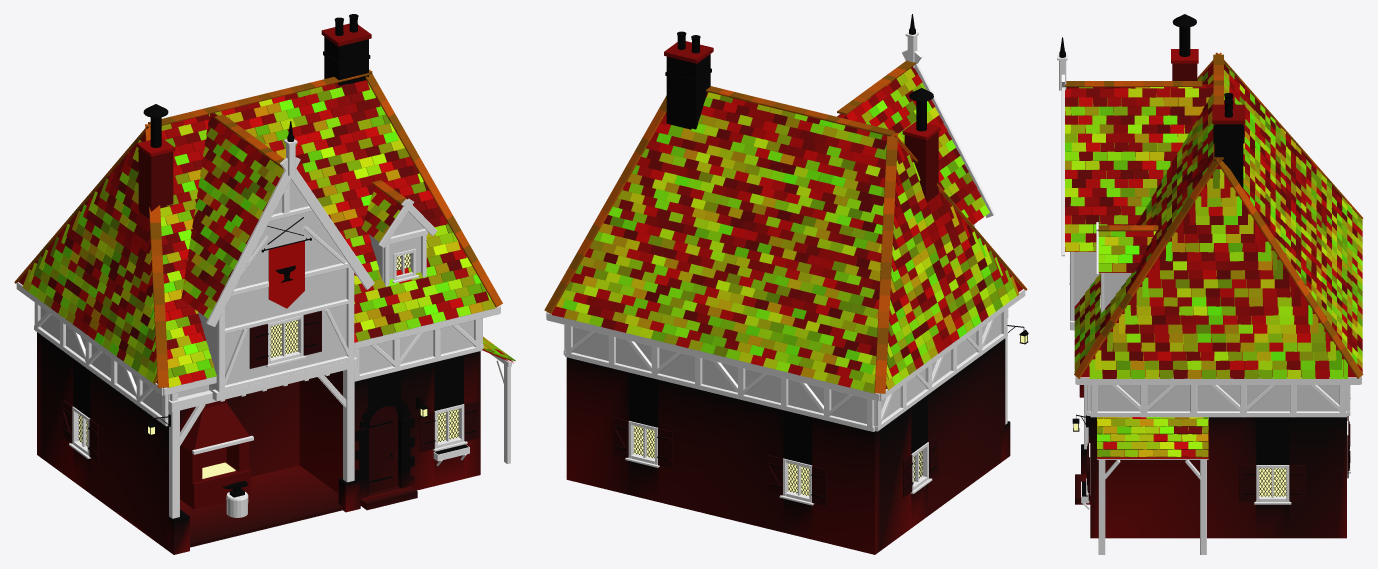
Rendered from SilverbrookBlacksmith.fbx.
The picture shows the model from 3 angles, left to right: view 1: azimuth 30°, elevation 25°; view 2: azimuth 150°, elevation 25°; view 3: azimuth 270°, elevation 25°; orthographic projection. The views are drawn at different scales.
Parts seen in each view (by area): view 1: SM_SBBlacksmith_Roof, SM_SBBlacksmith_Masonry, SM_SBBlacksmith_Timber, SM_SBBlacksmith_Details, SM_SBBlacksmith_Plaster; view 2: SM_SBBlacksmith_Roof, SM_SBBlacksmith_Masonry, SM_SBBlacksmith_Timber, SM_SBBlacksmith_Plaster, SM_SBBlacksmith_Details; view 3: SM_SBBlacksmith_Roof, SM_SBBlacksmith_Masonry, SM_SBBlacksmith_Timber, SM_SBBlacksmith_Plaster, SM_SBBlacksmith_Details.
Boxes of the visible parts, x1,y1,x2,y2 form: SM_SBBlacksmith_Roof: (14, 69, 515, 387); SM_SBBlacksmith_Masonry: (37, 23, 480, 554); SM_SBBlacksmith_Timber: (16, 139, 511, 518); SM_SBBlacksmith_Details: (63, 14, 479, 497); SM_SBBlacksmith_Plaster: (40, 180, 473, 415); SM_SBBlacksmith_Roof: (544, 60, 1027, 393); SM_SBBlacksmith_Masonry: (566, 41, 1010, 554); SM_SBBlacksmith_Timber: (546, 32, 1025, 505); SM_SBBlacksmith_Plaster: (573, 314, 1001, 425); SM_SBBlacksmith_Details: (613, 14, 1028, 506); SM_SBBlacksmith_Roof: (1065, 52, 1363, 458); SM_SBBlacksmith_Masonry: (1075, 49, 1346, 538); SM_SBBlacksmith_Timber: (1057, 54, 1361, 554); SM_SBBlacksmith_Plaster: (1074, 252, 1346, 411); SM_SBBlacksmith_Details: (1059, 14, 1350, 501).
Size of the model in its own units: 1239 by 1339 by 906.
